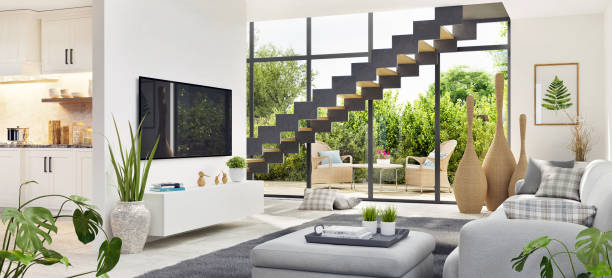TV: (136, 73, 233, 161)
TV stand: (146, 179, 266, 241)
chair: (403, 137, 457, 195), (308, 139, 353, 187)
large plant: (8, 192, 120, 278), (104, 111, 160, 254)
small plant: (227, 155, 248, 182), (360, 206, 379, 234), (380, 206, 397, 236)
sofa: (443, 156, 609, 278)
table: (248, 223, 436, 278), (354, 161, 405, 194)
wall art: (532, 61, 579, 127)
